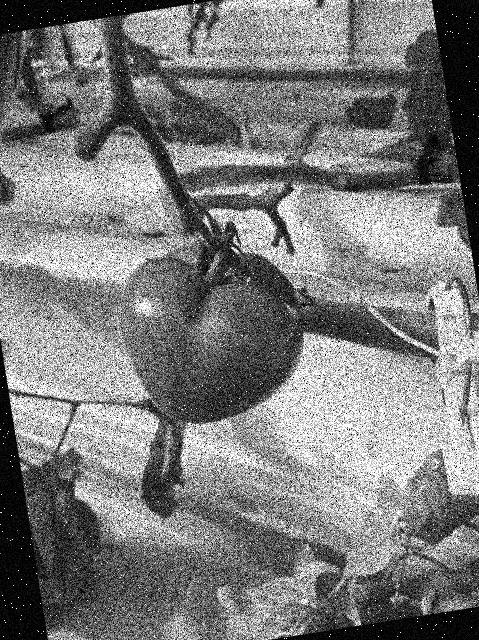b_fully_ripened: (107, 229, 318, 436)
